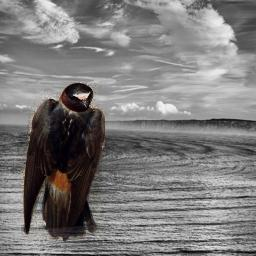Swallow: (21, 82, 105, 243)
